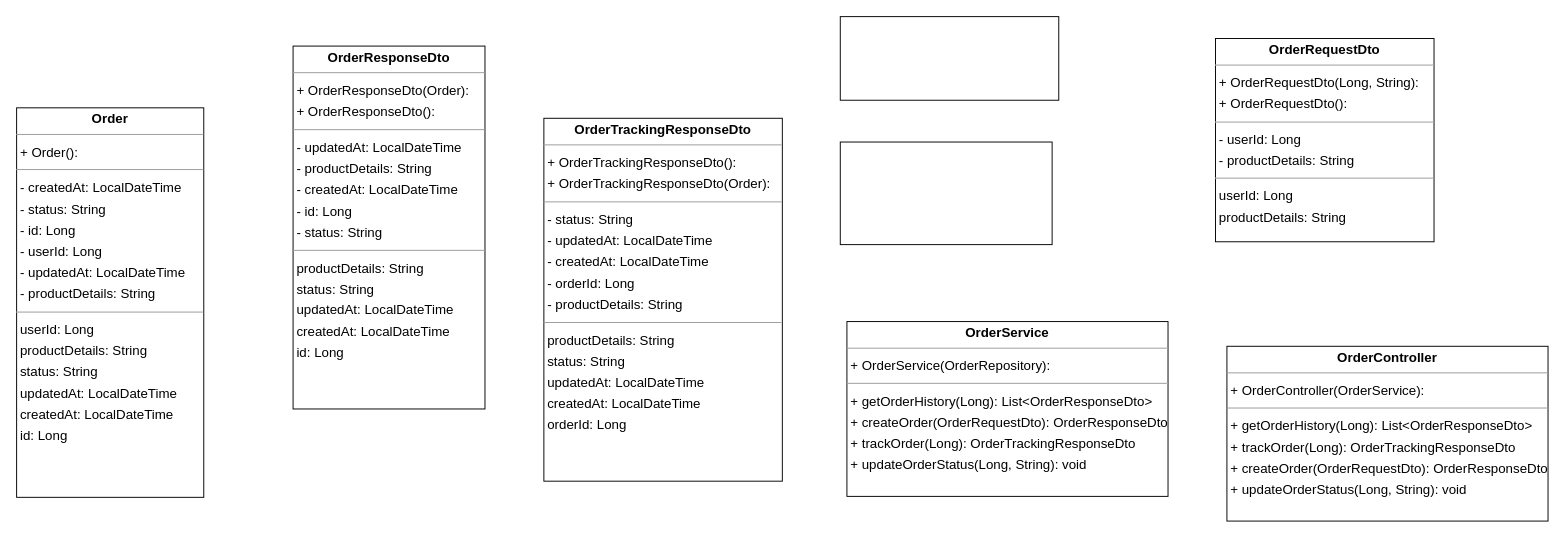
This 1565x538 diagram has some shape labels left out. Each missing label, with the centre of its shape:
"<<interface>> OrderRepository + findByUserId(Long): List<Order>" belongs at (x=949, y=58).
"OrderServiceApplication + OrderServiceApplication(): + main(String[]): void" belongs at (x=945, y=193).
